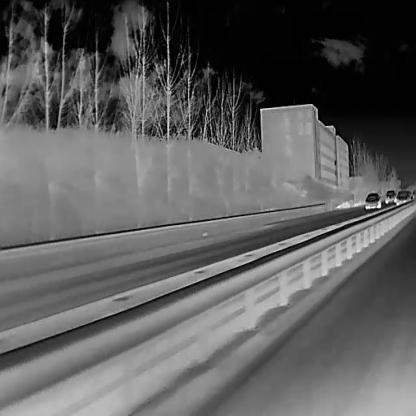car: (364, 192, 382, 209), (395, 189, 410, 204), (384, 189, 396, 203)
